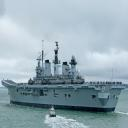Portanaves: (2, 38, 128, 111)
